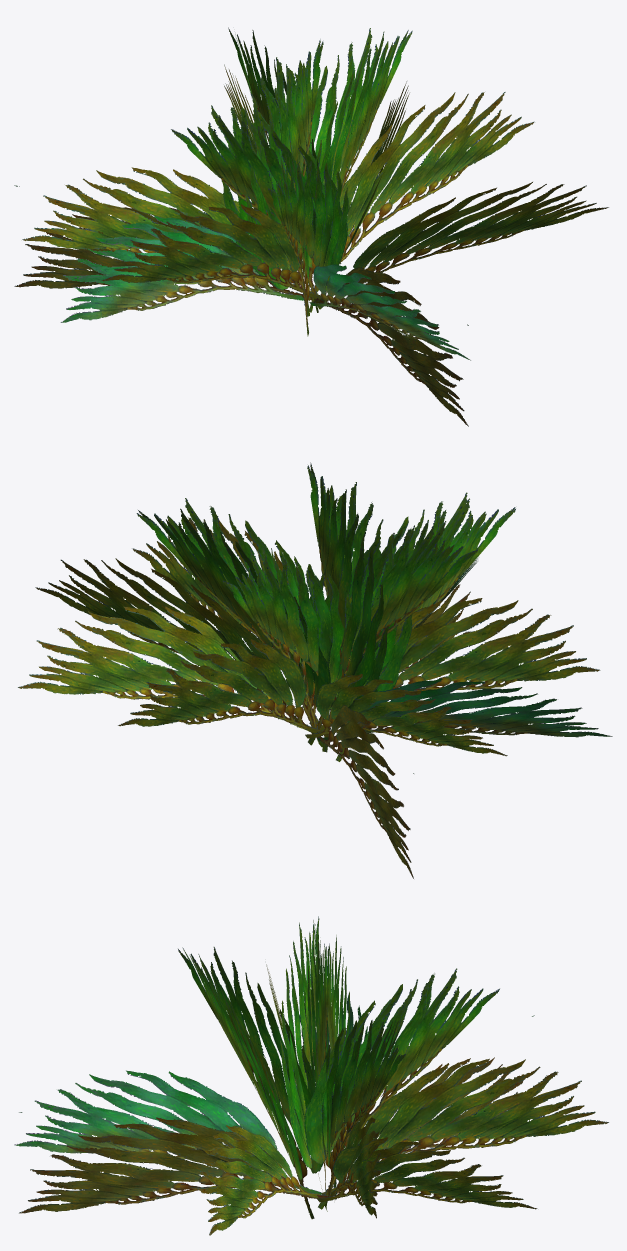
Rendered from plant1.dae.
The picture shows the model from 3 angles, top to bottom: view 1: azimuth 30°, elevation 25°; view 2: azimuth 150°, elevation 25°; view 3: azimuth 270°, elevation 25°; orthographic projection. The views are drawn at different scales.
Visible parts, largest first — view 1: kelp (×17); view 2: kelp (×19); view 3: kelp (×18).
Boxes of the visible parts, x1,y1,x2,y2 form: kelp (×17): (14,27,608,426); kelp (×19): (18,462,612,878); kelp (×18): (14,916,608,1235).
Bounding box in the file's own units: 52.68 × 52.67 × 28.83.
Materials: 1 (1 with a texture image).
